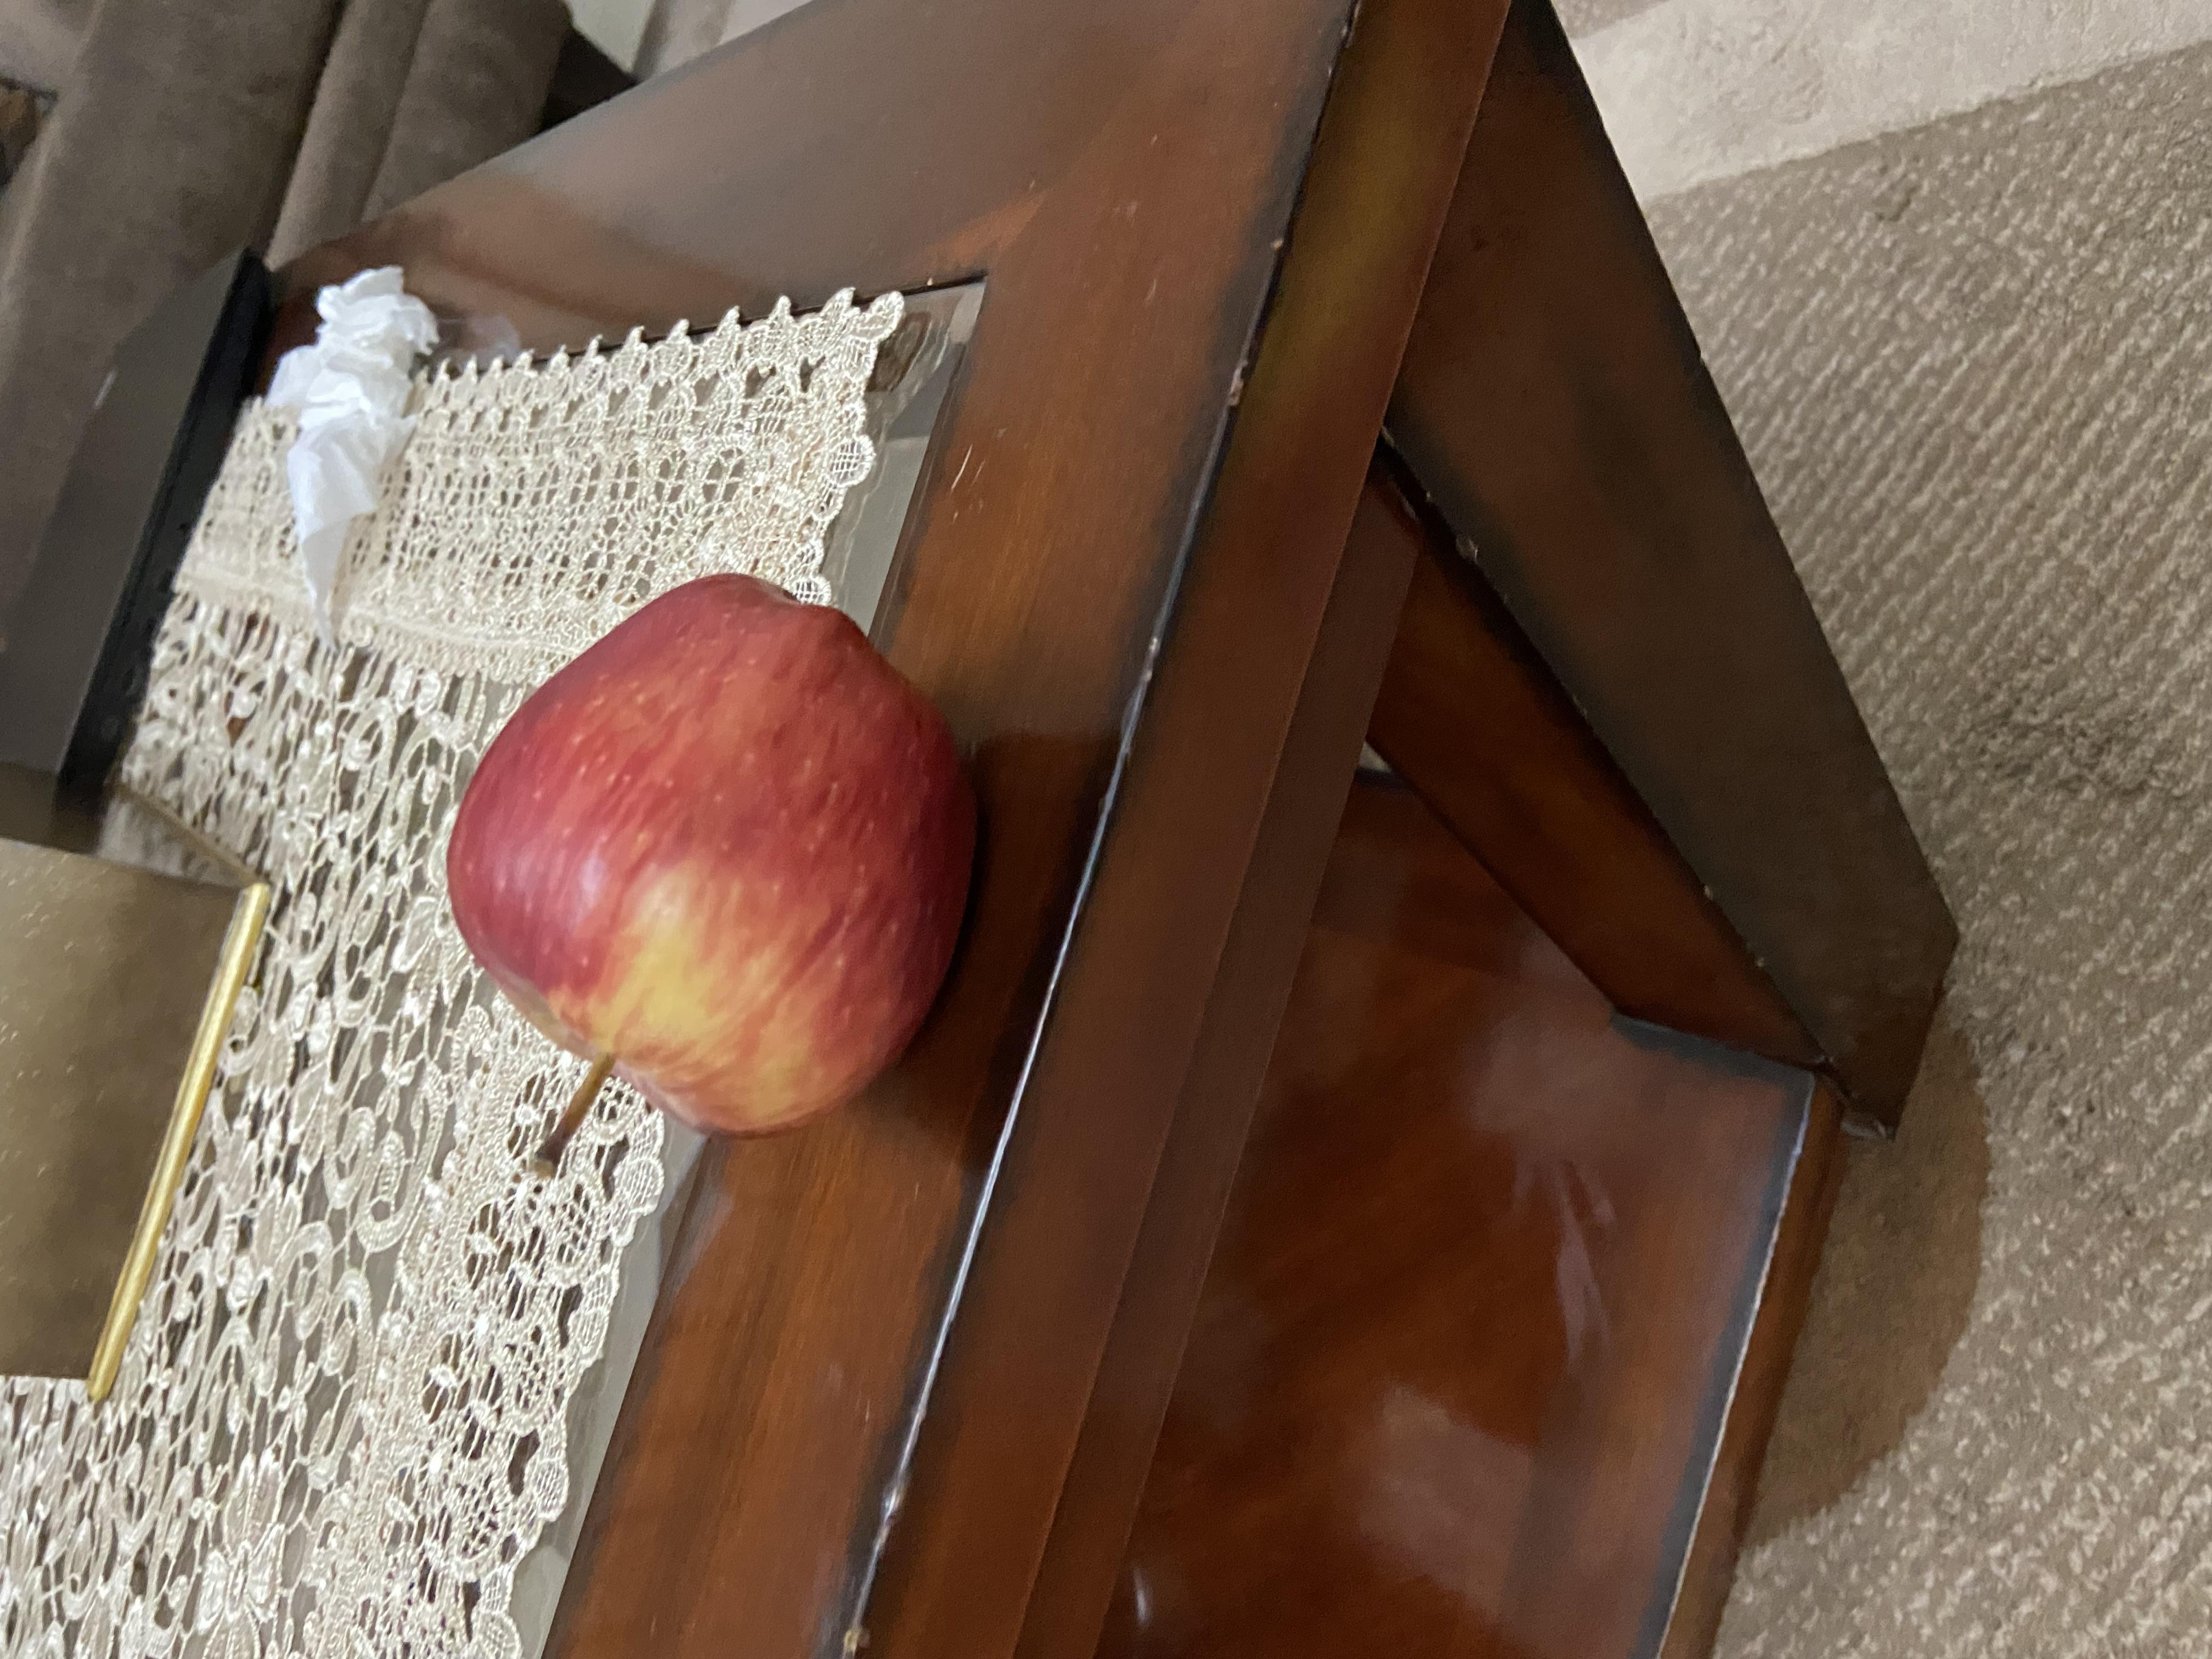Apple: (617, 329, 1463, 744)
